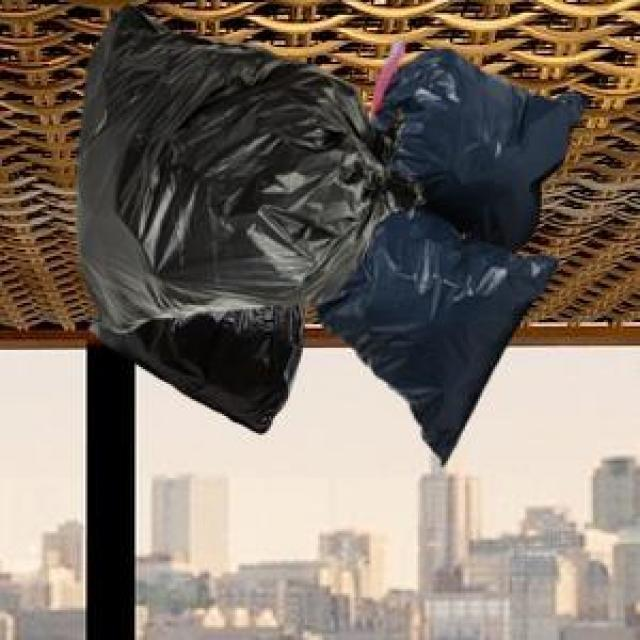waste: (82, 13, 370, 310), (342, 199, 562, 448), (391, 52, 586, 235), (111, 310, 307, 435)
